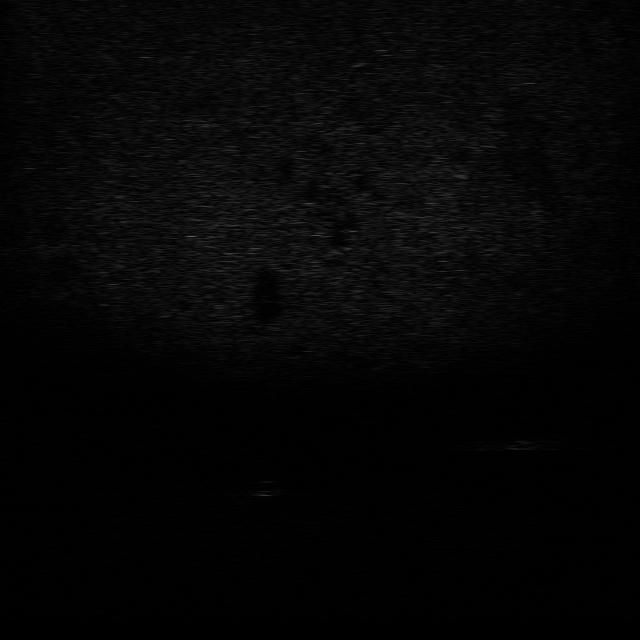human body: (246, 479, 289, 498)
square cage: (462, 429, 560, 455)
